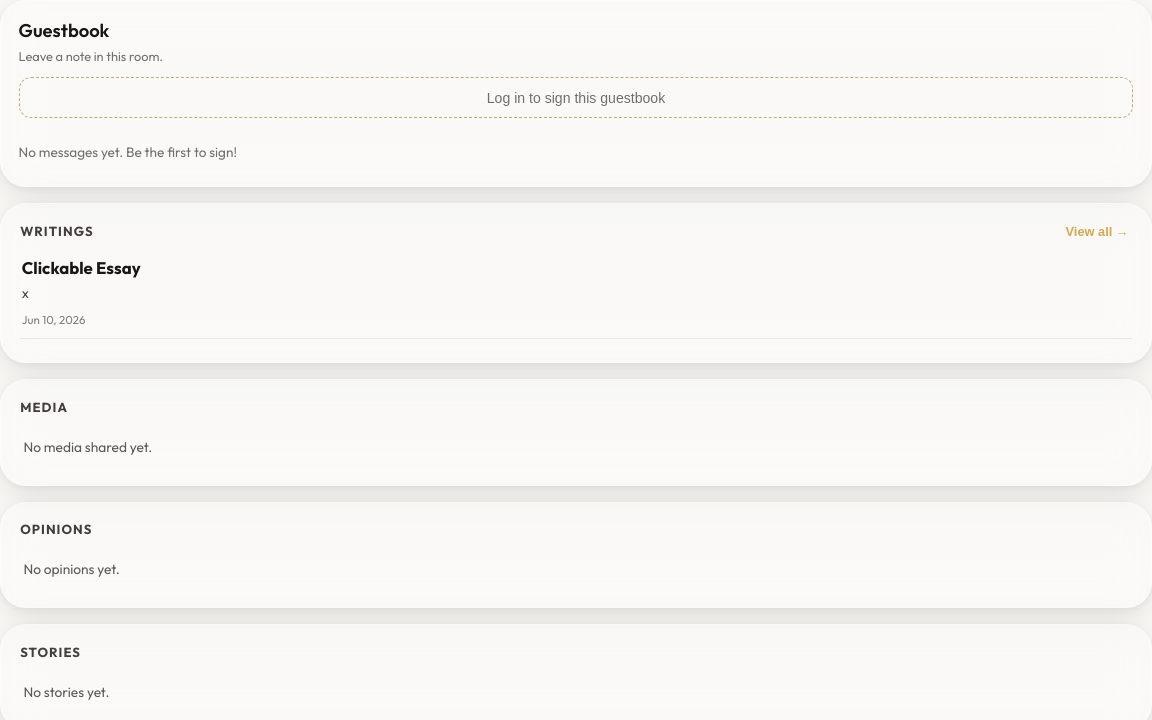
Test: ProfileLayoutRenderer (V3B real previews) › opens the block content modal when a writing preview is clicked
Step 1. Click the text "Clickable Essay" → (81, 268), box [22,257,141,278]
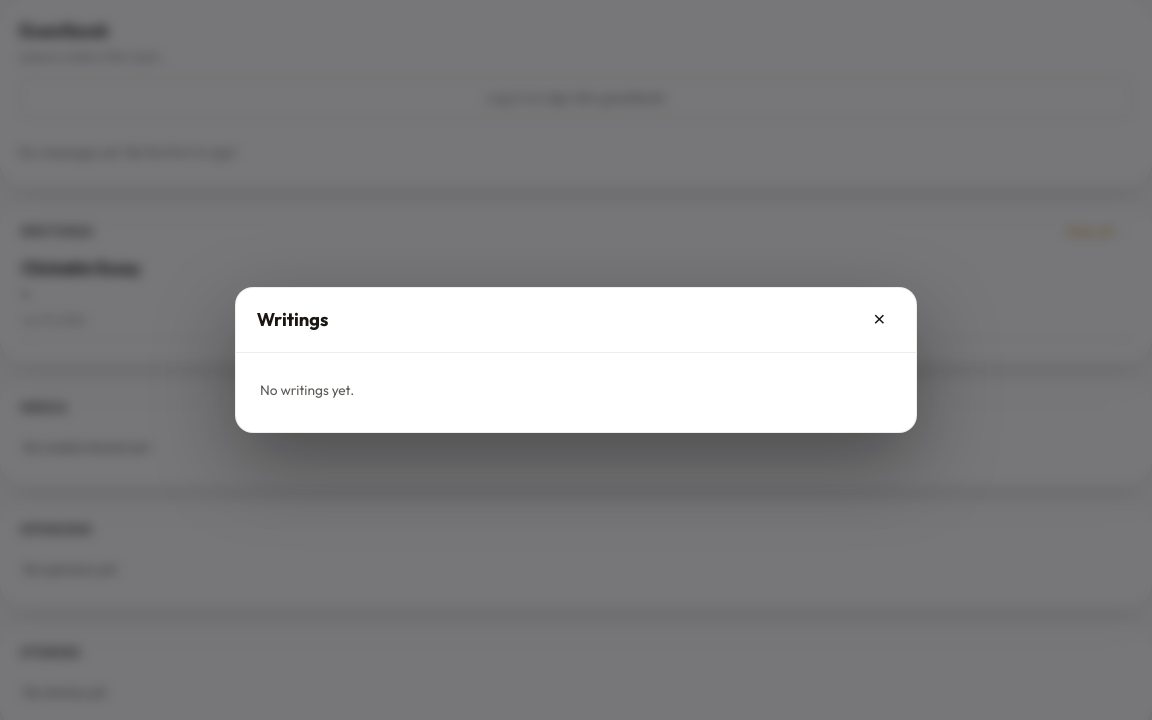
Expected: the button named "Close" is shown, [863,304,895,336]
Expected: the heading "Writings" is shown, [257,306,328,333]
